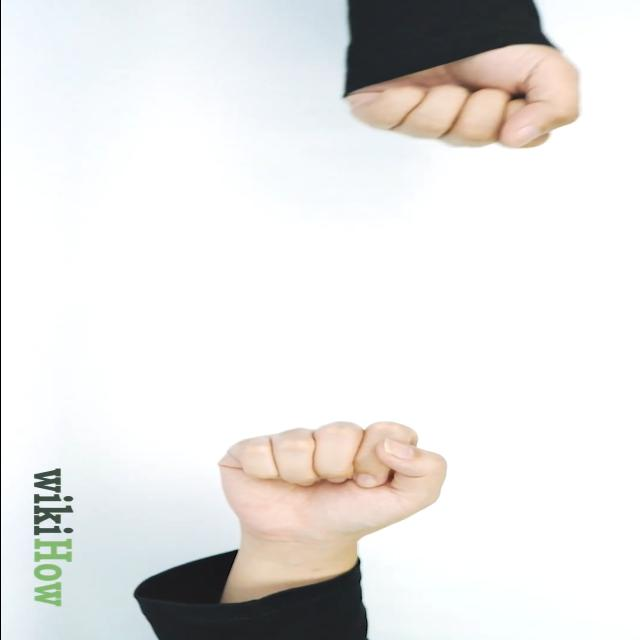Rock: (217, 420, 452, 540), (328, 45, 584, 149)
